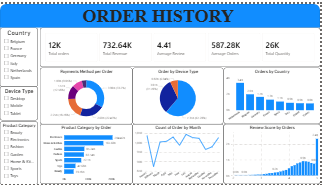

The page's visual inventory and layout, read from the dashboard file:
{"tool":"powerbi","page":{"name":" Order dashboard ","canvas":[1280,720],"ordinal":0},"visuals":[{"type":"cardVisual","fields":{"Data":["cleaned_data.Total orders","cleaned_data.Total Revenue","cleaned_data.Average review","Sum(cleaned_data.avg_order_value_eur)","cleaned_data.Total Quantity"]},"box":[158.9,95.6,1121.1,156.7],"z":0},{"type":"lineChart","title":"Count of Order by Month","fields":{"Y":["CountNonNull(cleaned_data.order_value_eur)"],"Category":["cleaned_data.order_date.Variation.Date Hierarchy.Month"]},"box":[529.2,480,363.8,240],"z":1000},{"type":"clusteredColumnChart","title":"Orders by Country","fields":{"Category":["cleaned_data.country"],"Y":["CountNonNull(cleaned_data.order_id)"]},"box":[893.8,252.5,386.2,225],"z":2000},{"type":"clusteredBarChart","title":"Product Category by Order","fields":{"Y":["Sum(cleaned_data.order_value_eur)"],"Category":["cleaned_data.product_category"]},"box":[158.9,481.1,370,238.9],"z":3000},{"type":"donutChart","title":"Payments Method per Order","fields":{"Category":["cleaned_data.payment_method"],"Y":["CountNonNull(cleaned_data.order_id)"]},"box":[158.9,253.3,370,225.6],"z":4000},{"type":"pieChart","title":"Order by Device Type","fields":{"Category":["cleaned_data.device_type"],"Y":["CountNonNull(cleaned_data.order_id)"]},"box":[530,253.1,363.1,225.4],"z":5000},{"type":"slicer","title":"Country","fields":{"Values":["cleaned_data.country"]},"box":[0,95.6,151.1,236.7],"z":6000},{"type":"slicer","title":"Product Category","fields":{"Values":["cleaned_data.product_category"]},"box":[0,467.8,151.1,252.2],"z":7000},{"type":"slicer","title":"Device Type","fields":{"Values":["cleaned_data.device_type"]},"box":[0,332.2,151.1,135.6],"z":8000},{"type":"clusteredColumnChart","title":"Review Score by Orders","fields":{"Y":["CountNonNull(cleaned_data.order_id)"],"Category":["cleaned_data.review_score"]},"box":[893.3,480,386.7,240],"z":8001},{"type":"shape","box":[0,0,1280,95.4],"z":8002},{"type":"textbox","box":[0,0,1280,95.4],"z":8003}]}

Visuals, with their boxes in screenshot pixels (x1, y1, x2, y2), scaled from the page's 1280x720 canvas onto the 323x185 screenshot:
cardVisual - cleaned_data.Total orders x cleaned_data.Total Revenue: 40, 25, 322, 65
"Count of Order by Month" lineChart: 134, 123, 225, 184
"Orders by Country" clusteredColumnChart: 226, 65, 322, 123
"Product Category by Order" clusteredBarChart: 40, 124, 133, 184
"Payments Method per Order" donutChart: 40, 65, 133, 123
"Order by Device Type" pieChart: 134, 65, 225, 123
"Country" slicer: 0, 25, 38, 85
"Product Category" slicer: 0, 120, 38, 184
"Device Type" slicer: 0, 85, 38, 120
"Review Score by Orders" clusteredColumnChart: 225, 123, 322, 184
shape: 0, 0, 322, 25
textbox: 0, 0, 322, 25
